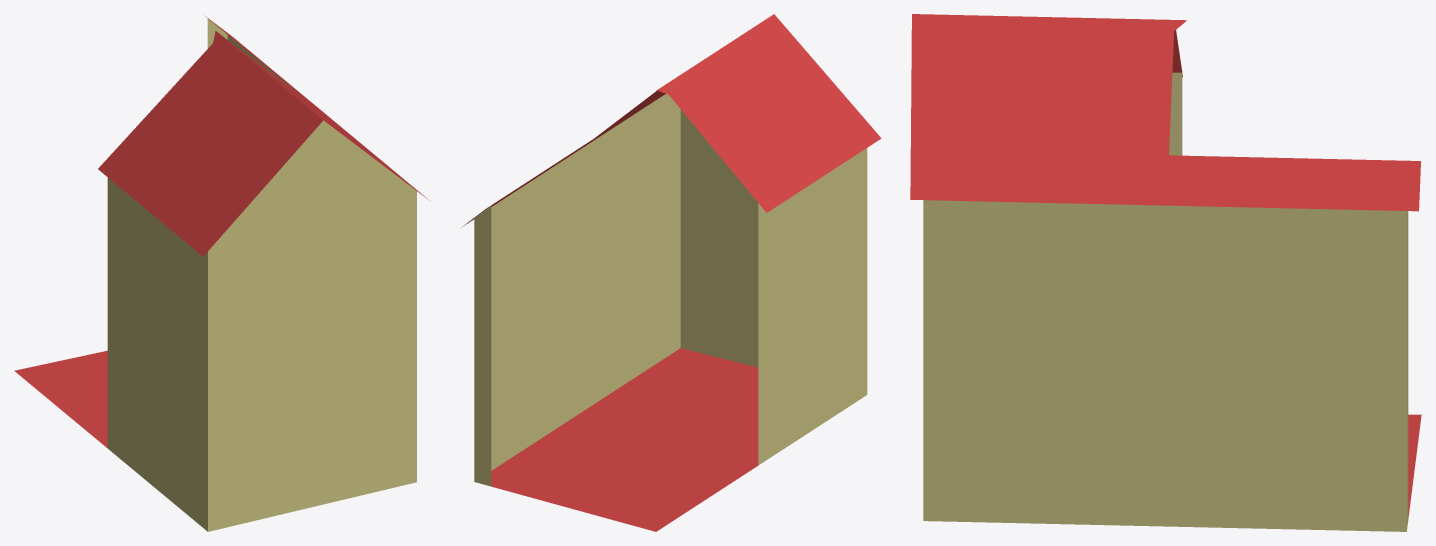
3 views of the same model, side by side, from view 1: azimuth 30°, elevation 25°; view 2: azimuth 150°, elevation 25°; view 3: azimuth 270°, elevation 25° (orthographic). The views are drawn at different scales.
Size of the model in its own units: 6.38 by 9.84 by 9.59.
